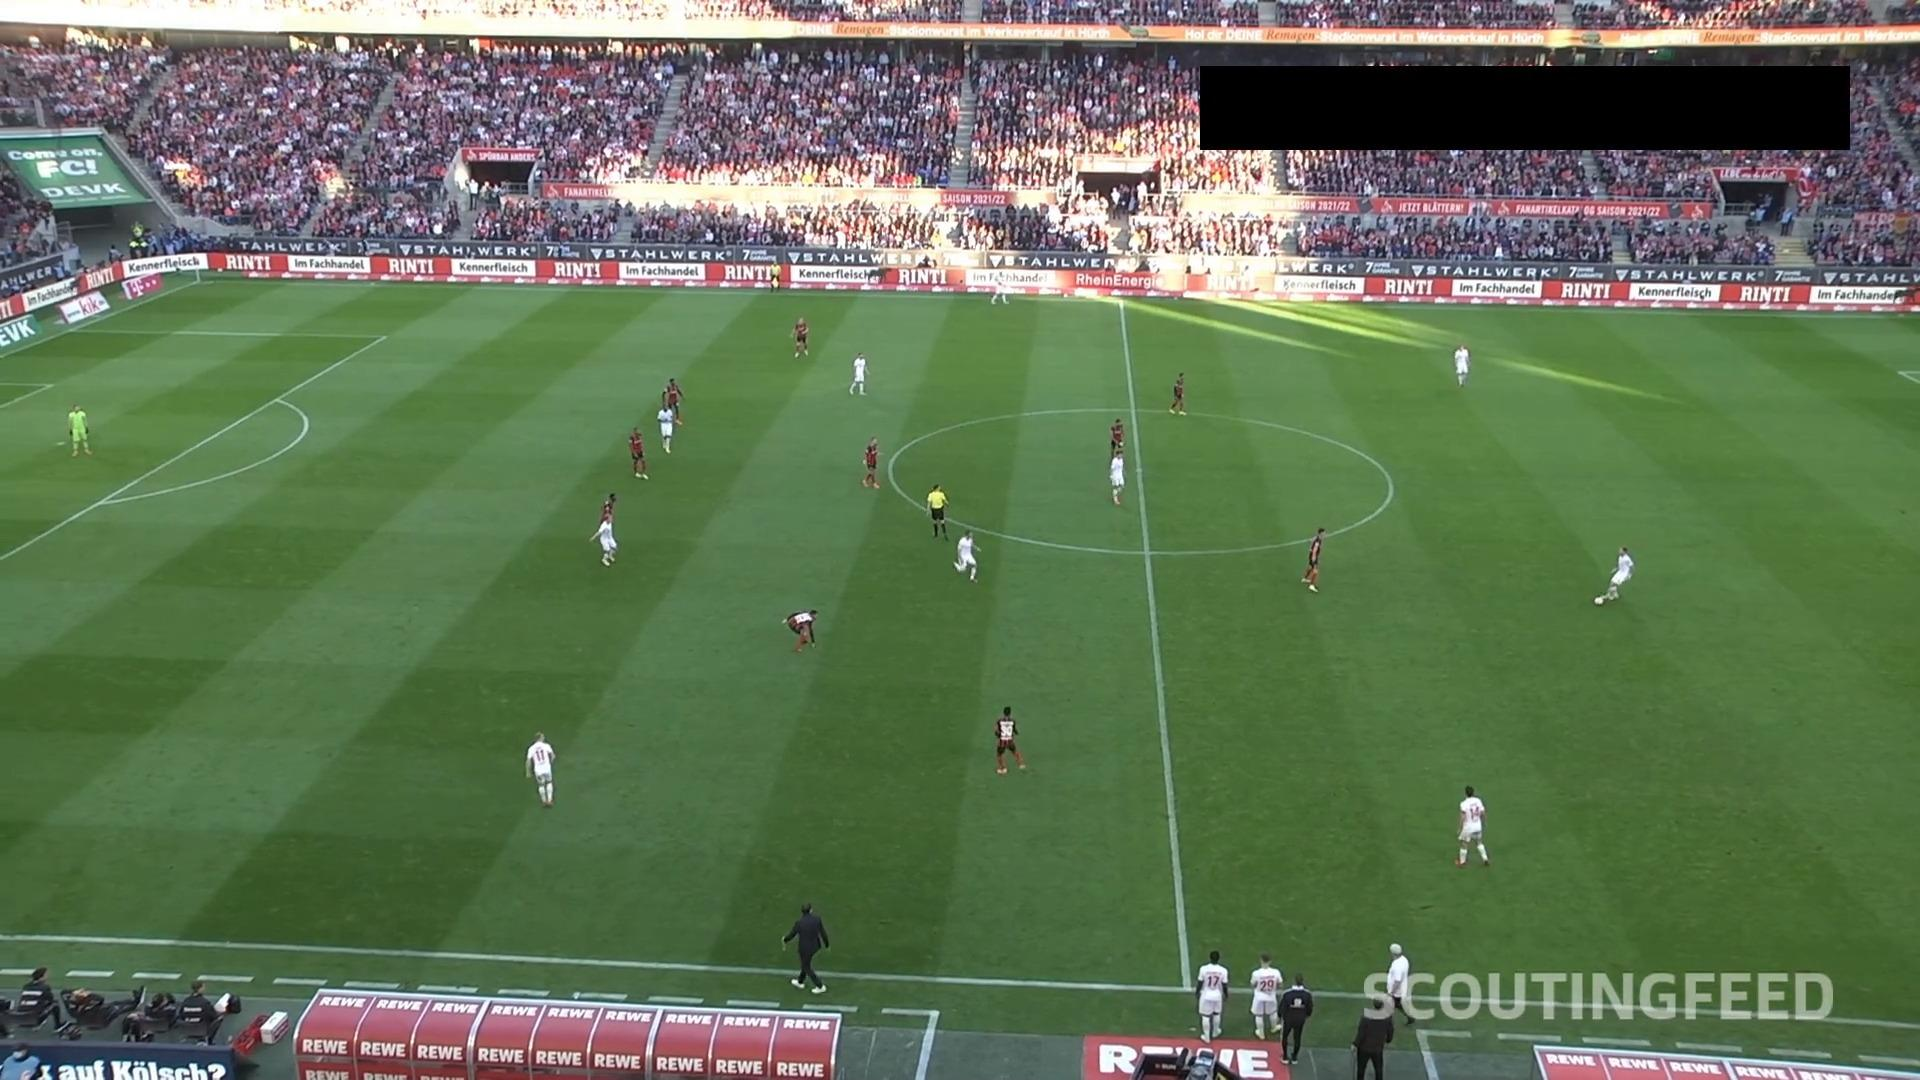ball: (1594, 596, 1605, 605)
